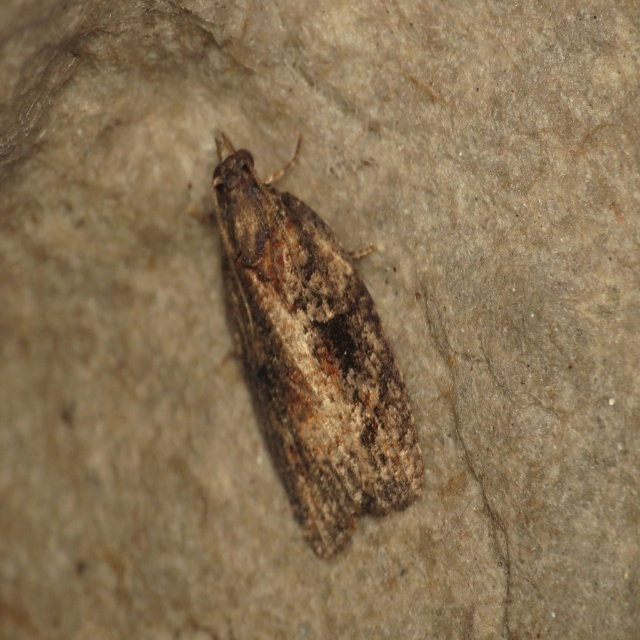Moths and butterflies: (184, 124, 427, 566)
